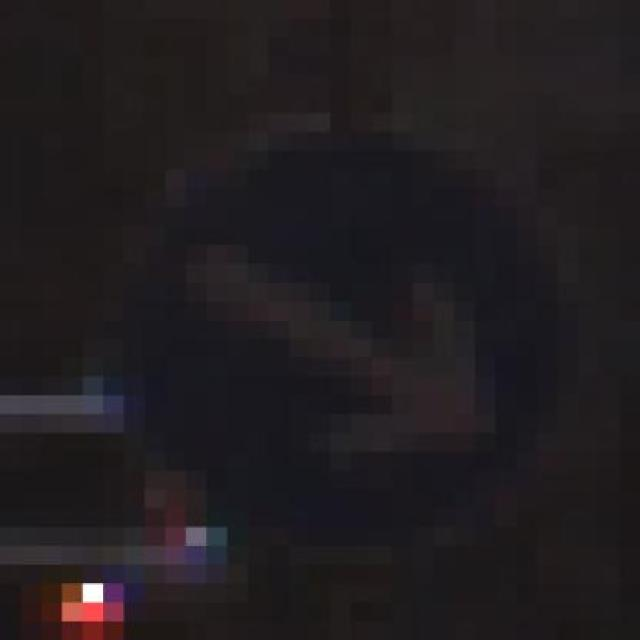Keep-Right: (82, 94, 578, 546)
